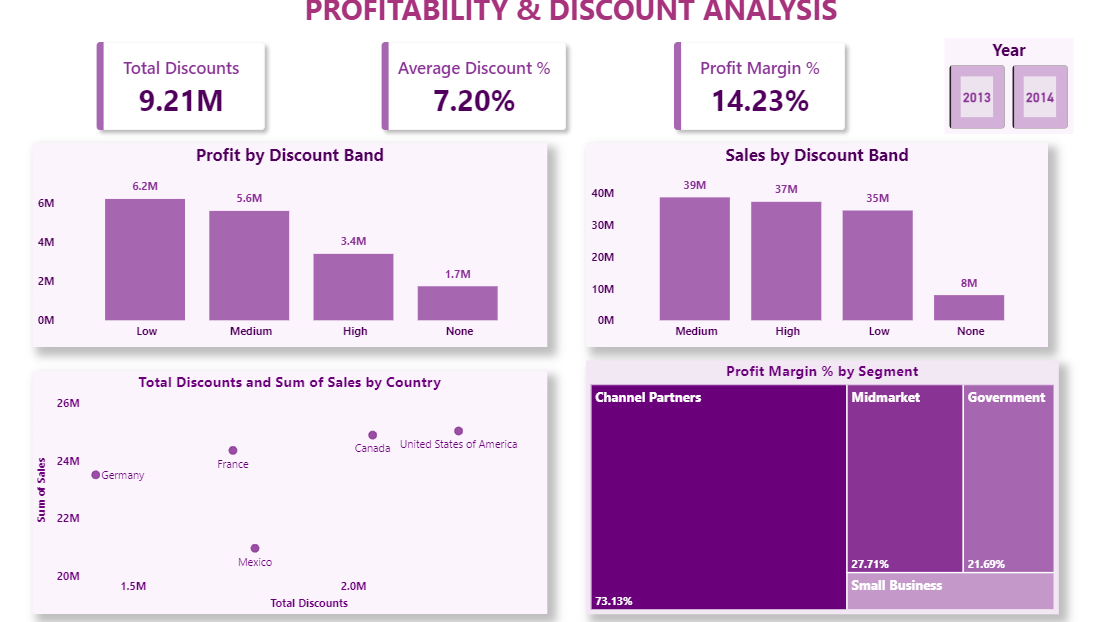

This screenshot's page, from the dashboard's own definition file:
{"tool":"powerbi","page":{"name":"Page 3","canvas":[1280,720],"ordinal":2},"visuals":[{"type":"cardVisual","fields":{"Data":["financials.Total Discounts"]},"box":[83.3,35,245,156.7],"z":0},{"type":"cardVisual","fields":{"Data":["financials.Average Discount %"]},"box":[400,35,263.3,156.7],"z":1000},{"type":"cardVisual","fields":{"Data":["financials.Profit Margin %"]},"box":[725,35,248.3,156.7],"z":2000},{"type":"clusteredColumnChart","title":"Profit by Discount Band","fields":{"Category":["financials.Discount Band"],"Y":["Sum(financials.Profit)"]},"box":[41.7,176.7,571.7,226.7],"z":3000},{"type":"clusteredColumnChart","title":"Sales by Discount Band","fields":{"Category":["financials.Discount Band"],"Y":["Sum(financials.Sales)"]},"box":[656.7,176.7,513.3,226.7],"z":4000},{"type":"scatterChart","title":"Sales vs Discounts by Country","fields":{"X":["financials.Total Discounts"],"Y":["Sum(financials.Sales)"],"Category":["financials.Country"]},"box":[41.7,430,571.7,270],"z":5000},{"type":"treemap","fields":{"Group":["financials.Segment"],"Values":["financials.Profit Margin %"]},"box":[656.7,418.3,525,281.7],"z":5001},{"type":"advancedSlicerVisual","fields":{"Values":["financials.Year"]},"box":[1055,60,143.3,106.7],"z":5002},{"type":"textbox","box":[0,0,1280,60],"z":5003}]}

Visuals, with their boxes in screenshot pixels (x1, y1, x2, y2), scaled from the page's 1280x720 canvas onto the 1105x622 screenshot:
cardVisual - financials.Total Discounts: locate(72, 30, 283, 166)
cardVisual - financials.Average Discount %: locate(345, 30, 573, 166)
cardVisual - financials.Profit Margin %: locate(626, 30, 840, 166)
"Profit by Discount Band" clusteredColumnChart: locate(36, 153, 530, 348)
"Sales by Discount Band" clusteredColumnChart: locate(567, 153, 1010, 348)
"Sales vs Discounts by Country" scatterChart: locate(36, 371, 530, 605)
treemap - financials.Segment x financials.Profit Margin %: locate(567, 361, 1020, 605)
advancedSlicerVisual - financials.Year: locate(911, 52, 1034, 144)
textbox: locate(0, 0, 1104, 52)
